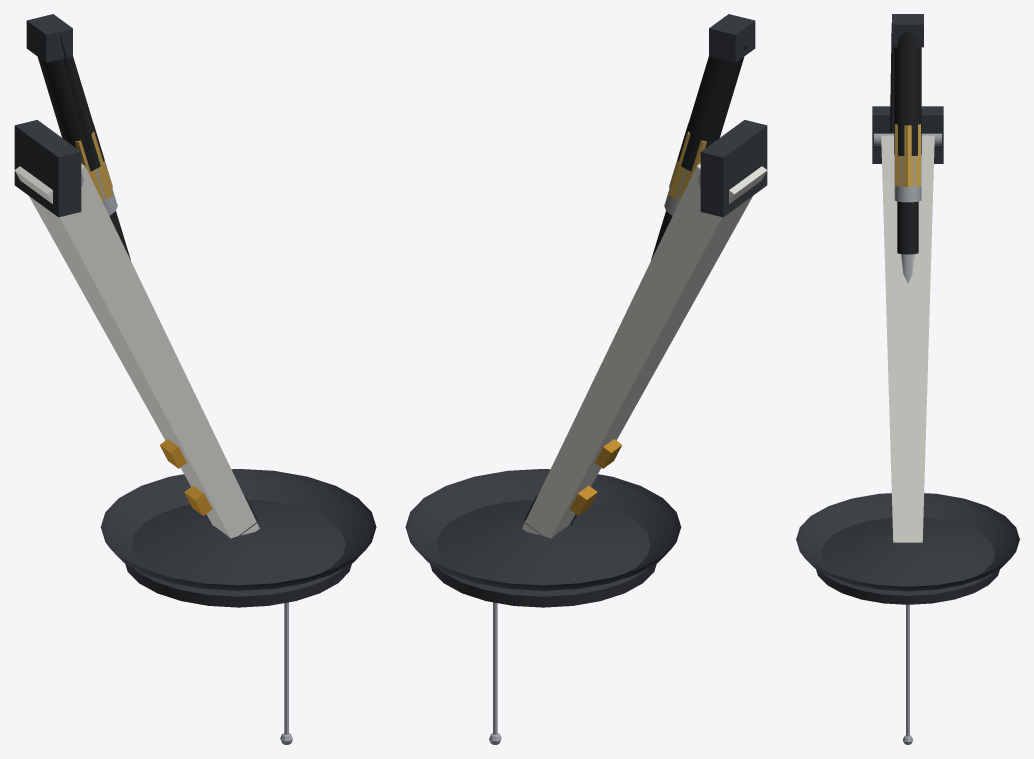
Rendered from legs_shepard_m.glb.
The picture shows the model from 3 angles, left to right: view 1: azimuth 30°, elevation 25°; view 2: azimuth 150°, elevation 25°; view 3: azimuth 270°, elevation 25°; orthographic projection. The views are drawn at different scales.
Parts seen in each view (by area): view 1: leg, slot_pads__large, slot_pads__dish, hinge, slot_shock__telescope, slot_shock, slot_shock__hydraulic, slot_probes__loadcells, slot_probes__probes; view 2: leg, slot_pads__large, slot_pads__dish, hinge, slot_shock__telescope, slot_shock, slot_probes__loadcells, slot_probes__probes; view 3: leg, slot_pads__large, slot_pads__dish, slot_shock__telescope, slot_shock, hinge, slot_shock__hydraulic, slot_probes__probes.
Boxes of the visible parts, left/top/right/bottom form: leg: left=14, top=163, right=259, bottom=538; slot_pads__large: left=125, top=499, right=351, bottom=607; slot_pads__dish: left=100, top=469, right=376, bottom=590; hinge: left=14, top=120, right=83, bottom=217; slot_shock__telescope: left=34, top=44, right=130, bottom=260; slot_shock: left=26, top=14, right=112, bottom=201; slot_shock__hydraulic: left=59, top=35, right=117, bottom=215; slot_probes__loadcells: left=160, top=439, right=212, bottom=515; slot_probes__probes: left=280, top=602, right=292, bottom=744; leg: left=522, top=163, right=767, bottom=538; slot_pads__large: left=430, top=499, right=656, bottom=607; slot_pads__dish: left=405, top=469, right=681, bottom=590; hinge: left=698, top=120, right=767, bottom=217; slot_shock__telescope: left=651, top=44, right=747, bottom=260; slot_shock: left=669, top=14, right=755, bottom=201; slot_probes__loadcells: left=569, top=439, right=621, bottom=515; slot_probes__probes: left=489, top=602, right=501, bottom=744; leg: left=881, top=135, right=934, bottom=542; slot_pads__large: left=816, top=517, right=999, bottom=604; slot_pads__dish: left=796, top=493, right=1019, bottom=591; slot_shock__telescope: left=894, top=32, right=921, bottom=273; slot_shock: left=892, top=14, right=923, bottom=283; hinge: left=872, top=106, right=943, bottom=163; slot_shock__hydraulic: left=890, top=23, right=921, bottom=202; slot_probes__probes: left=903, top=604, right=912, bottom=744.
Size of the model in its own units: 1.72 by 3.9 by 1.25.
